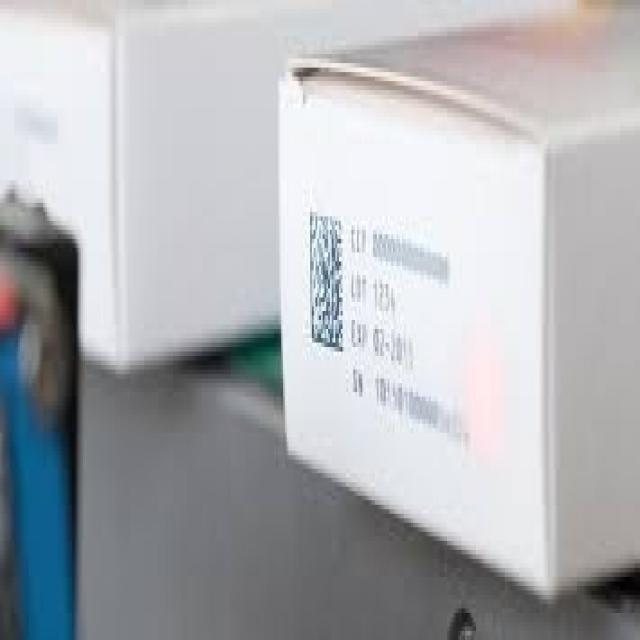datamatrix: (302, 190, 351, 366)
